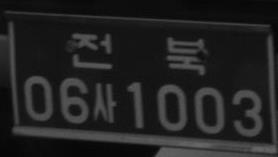0: (193, 86, 226, 134), (22, 74, 54, 122), (156, 83, 187, 131)
1: (123, 81, 149, 128)
3: (231, 88, 262, 137)
6: (59, 75, 90, 124)
사: (91, 82, 116, 123)
전북_D: (71, 32, 206, 76)
